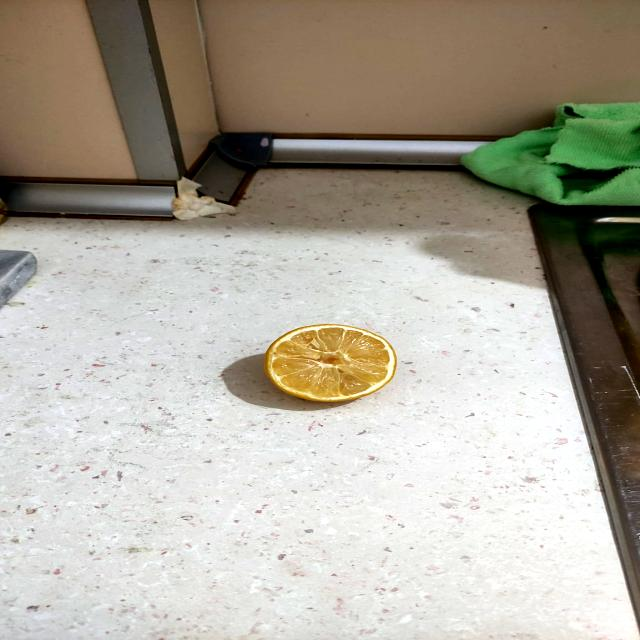lemon: (244, 316, 413, 412)
